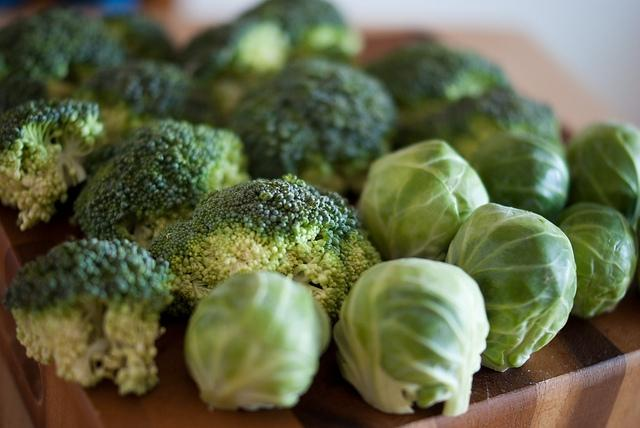broccoli: (75, 0, 358, 129), (147, 174, 381, 326), (0, 237, 174, 396), (226, 55, 400, 196), (66, 118, 251, 250), (378, 81, 568, 165), (0, 97, 108, 232), (0, 0, 126, 115), (361, 40, 510, 124), (70, 60, 194, 124)
brussels sprouts: (334, 258, 490, 416), (445, 203, 577, 372), (184, 270, 332, 410), (356, 140, 490, 264), (550, 203, 640, 318), (469, 134, 569, 222), (567, 121, 640, 225)
